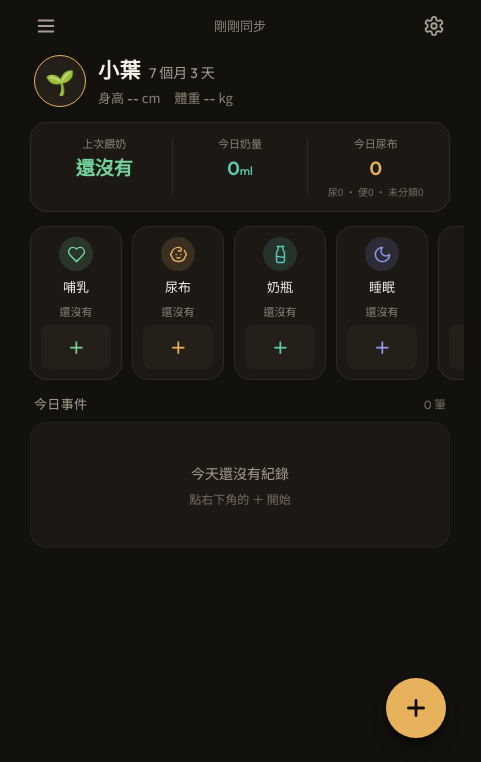
Test: the home screen › marks itself out of date when a later refresh fails
Expected: the text "上次餵奶" is shown, [82,135,126,152]
Click the link named "新增事件". click: [416, 708]
box: [386,678,446,738]
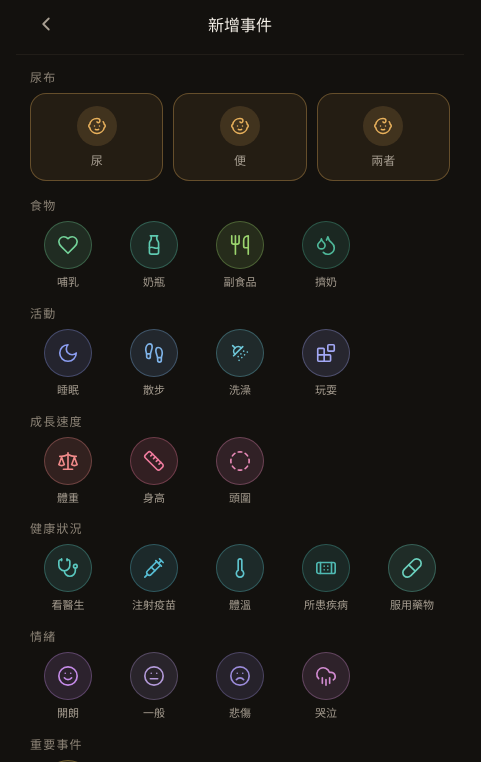
Click the button "尿". click: [97, 137]
box: [30,93,163,181]
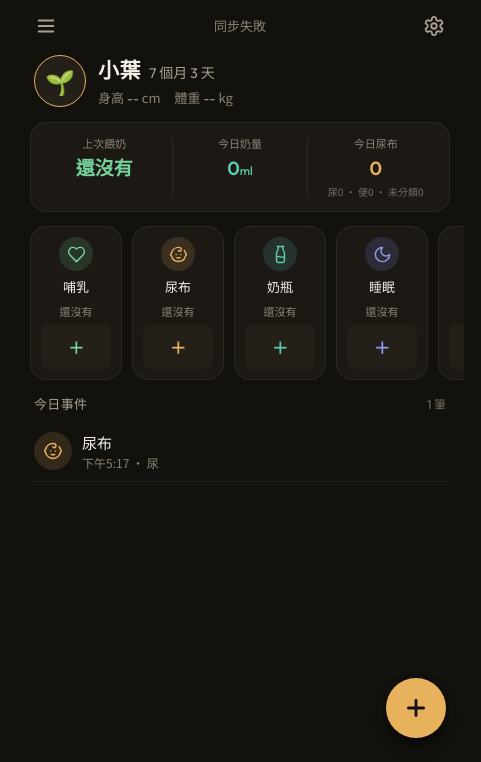
Now the button with test id "sync-state" reads "同步失敗", box [214,16,266,36]
